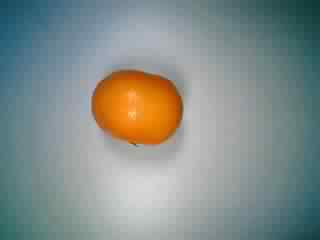orange: (85, 64, 187, 151)
